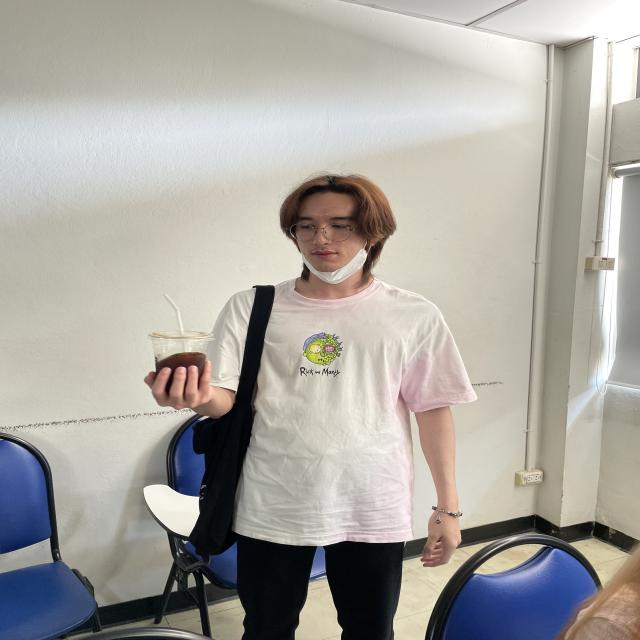cup: (148, 330, 216, 396)
